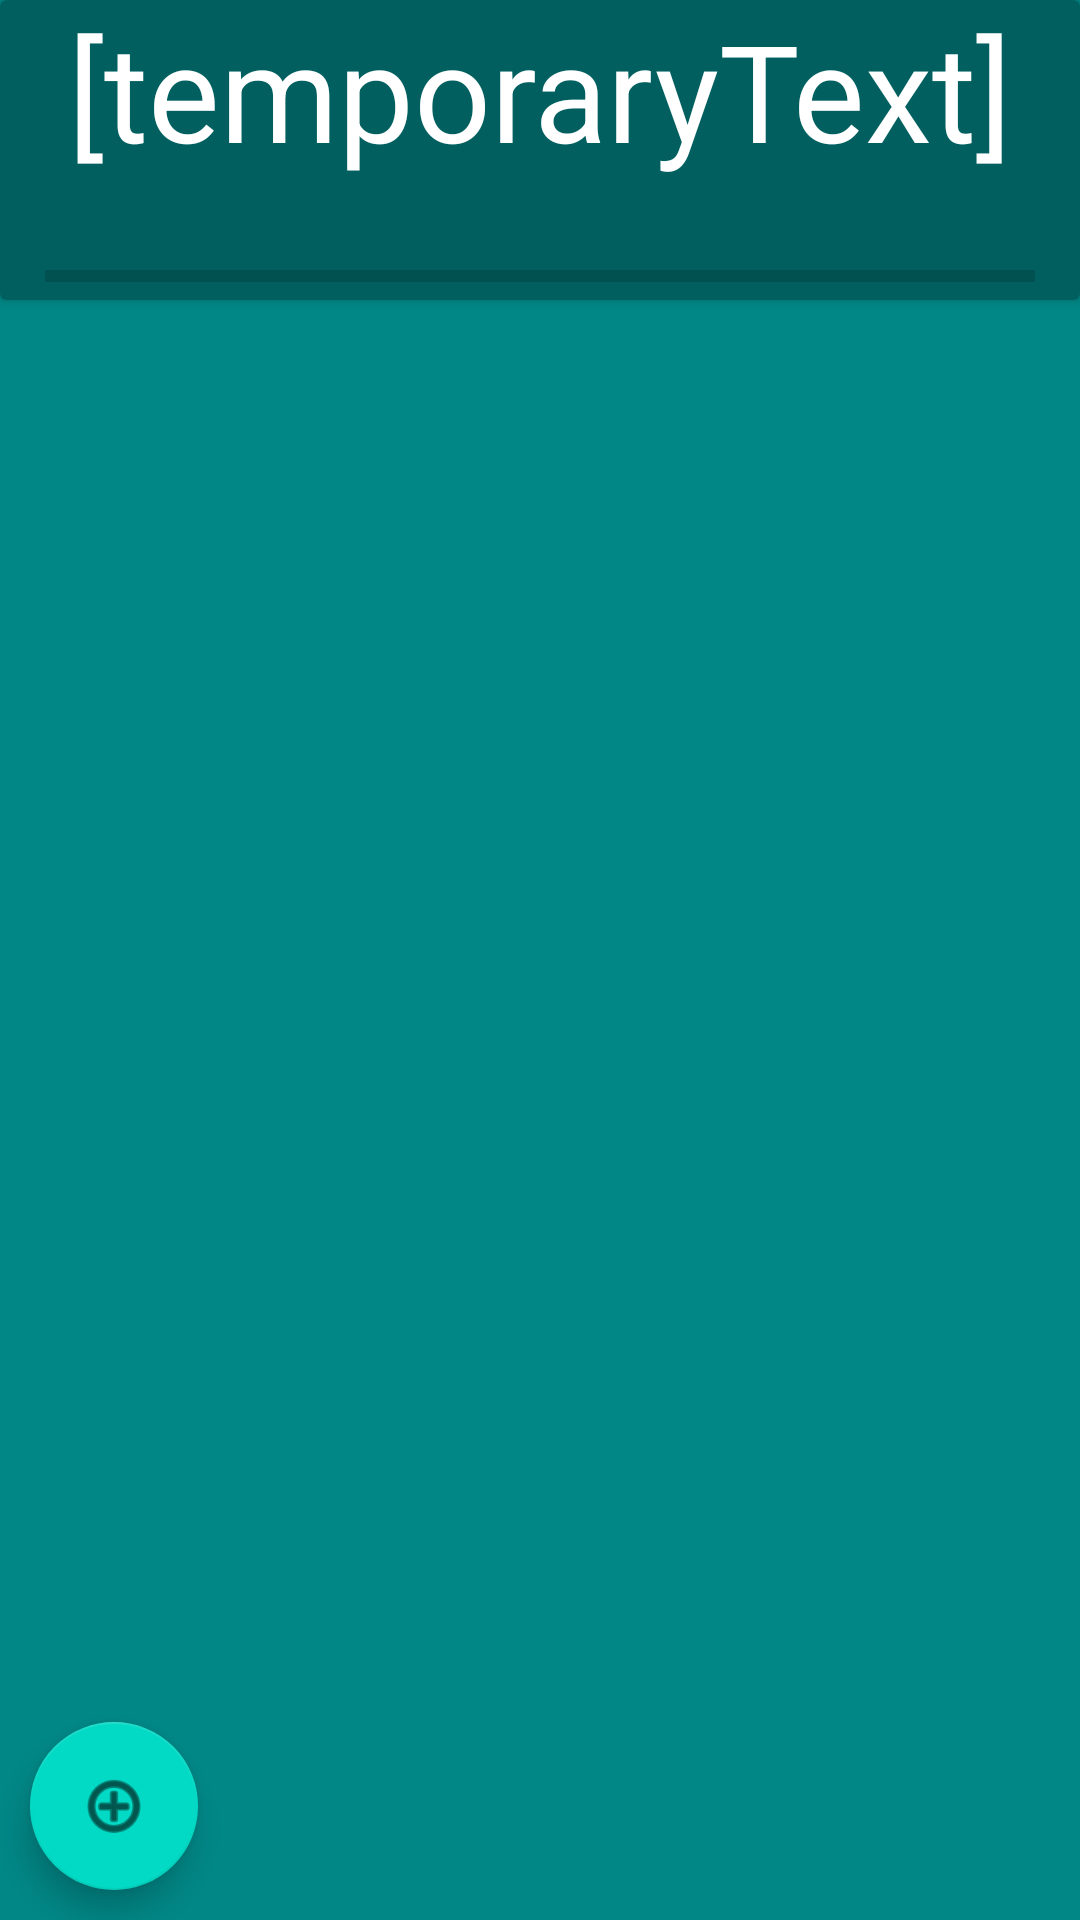

Where to tap for icons on this 1080 x 1920 app screen, as [x,y]:
add: [114,1806]
